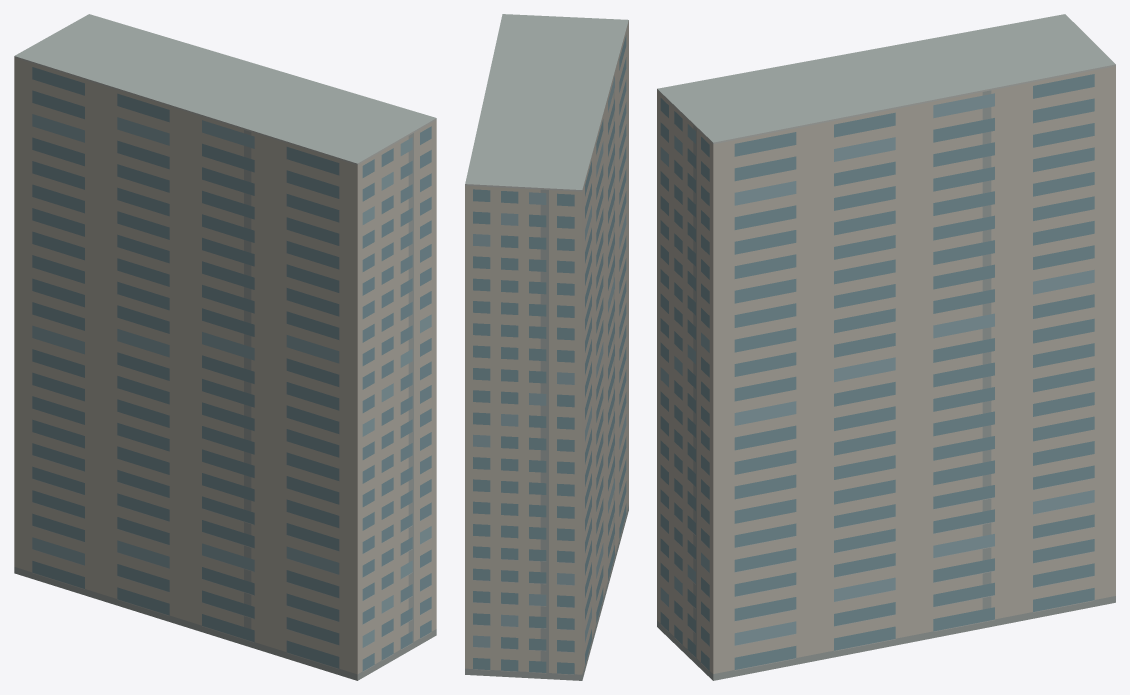
The model's file is residential-d93e68d2-4254-4a18-9cfd-01dc864972ac.glb.
3 views of the same model, side by side, from view 1: azimuth 30°, elevation 25°; view 2: azimuth 150°, elevation 25°; view 3: azimuth 270°, elevation 25° (orthographic). The views are drawn at different scales.
Parts seen in each view (by area): view 1: residential-d93e68d2-4254-4a18-9cfd-01dc864972ac.tmp; view 2: residential-d93e68d2-4254-4a18-9cfd-01dc864972ac.tmp; view 3: residential-d93e68d2-4254-4a18-9cfd-01dc864972ac.tmp.
Part boxes in pixels (<box>): residential-d93e68d2-4254-4a18-9cfd-01dc864972ac.tmp: <box>14,14,436,680</box>; residential-d93e68d2-4254-4a18-9cfd-01dc864972ac.tmp: <box>465,14,628,680</box>; residential-d93e68d2-4254-4a18-9cfd-01dc864972ac.tmp: <box>657,14,1115,680</box>.
Size of the model in its own units: 38.96 by 76 by 58.71.
